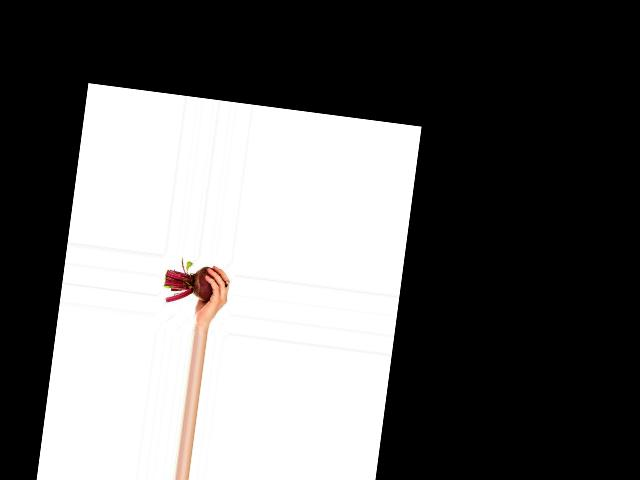beet: (162, 256, 230, 309)
